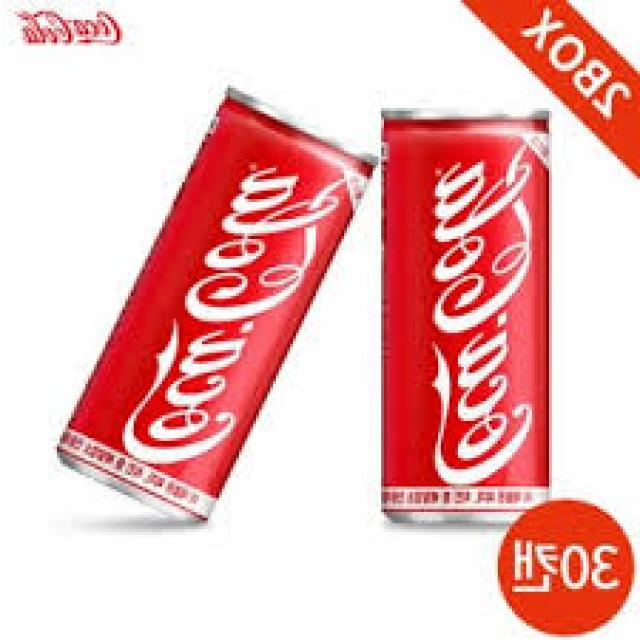Coca-Cola: (52, 84, 382, 536), (374, 103, 560, 529)
